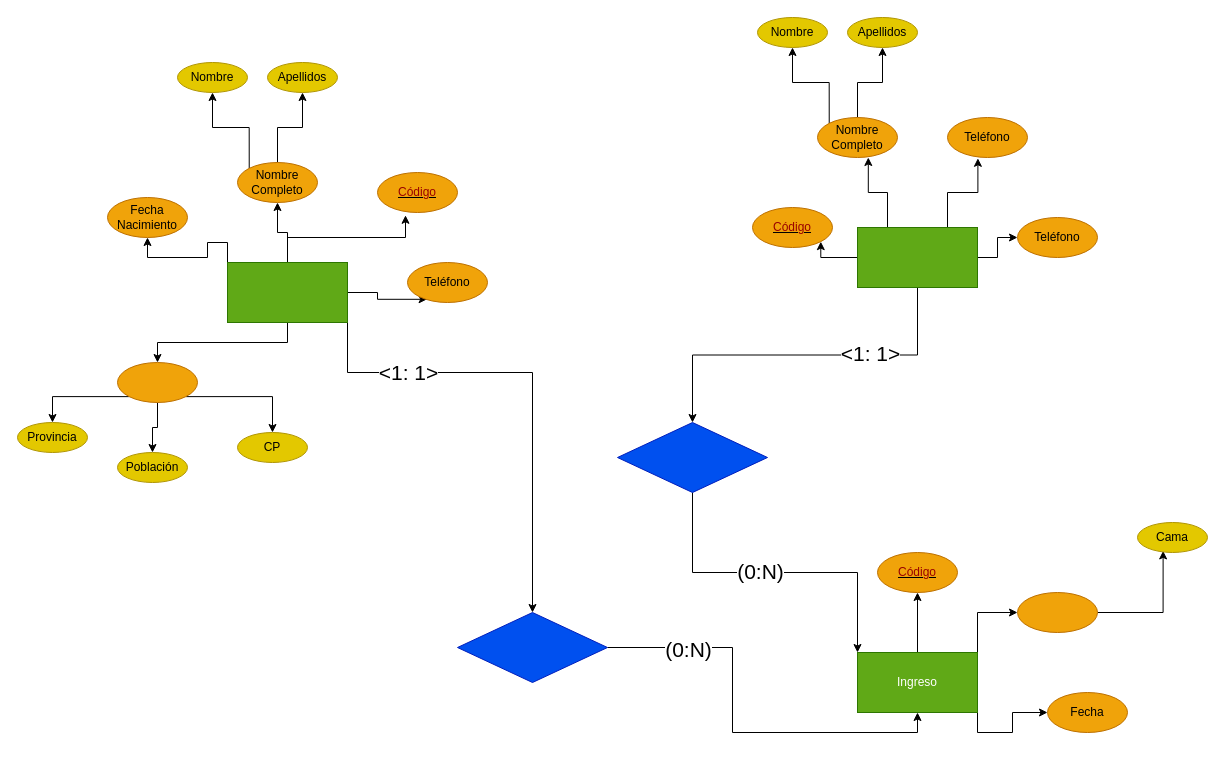
The diagram is 1225 pixels wide and 758 high, and some of its shapes have lost their labels. Here are the shapes that lost their labels. From the top down, the centre of each, then its label:
At point 917,257: "Médico".
At point 287,292: "Paciente".
At point 157,382: "Dirección".
At point 692,457: "Atiende".
At point 1057,612: "Número Habitación".
At point 532,647: "Realiza".
